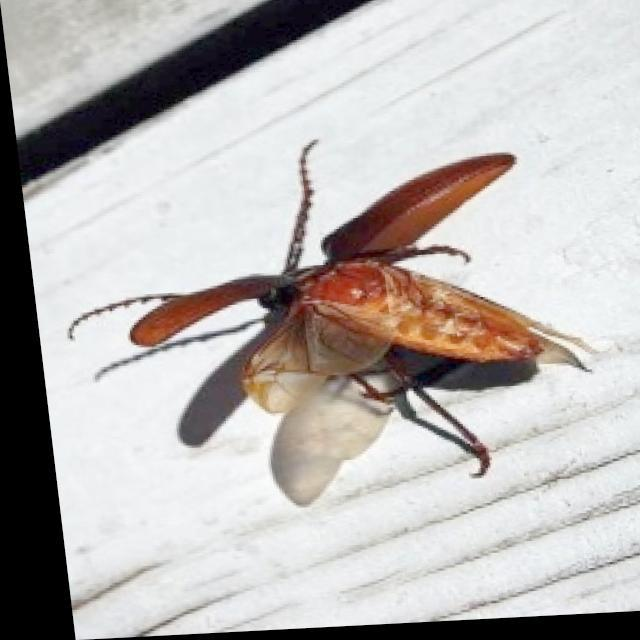cockroach: (64, 135, 597, 510)
